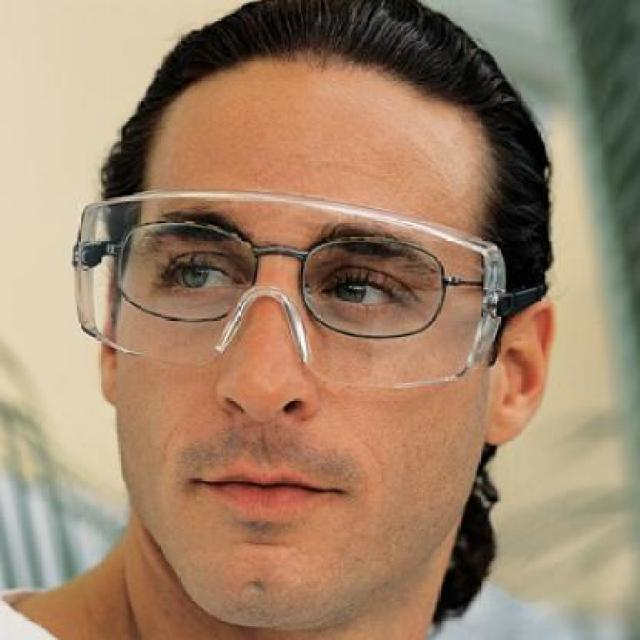Goggles: (59, 189, 567, 380)
